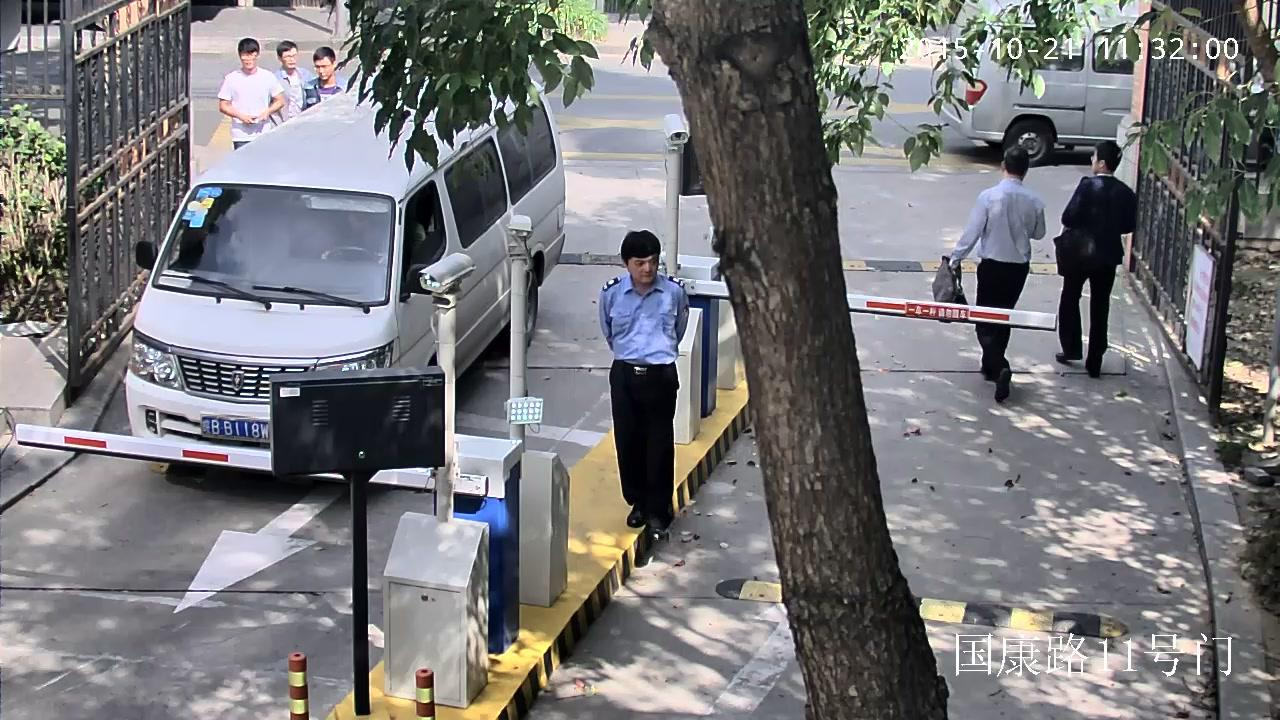face: (626, 256, 658, 283), (316, 58, 332, 80), (283, 46, 296, 70), (241, 52, 255, 68), (1090, 153, 1099, 172)
